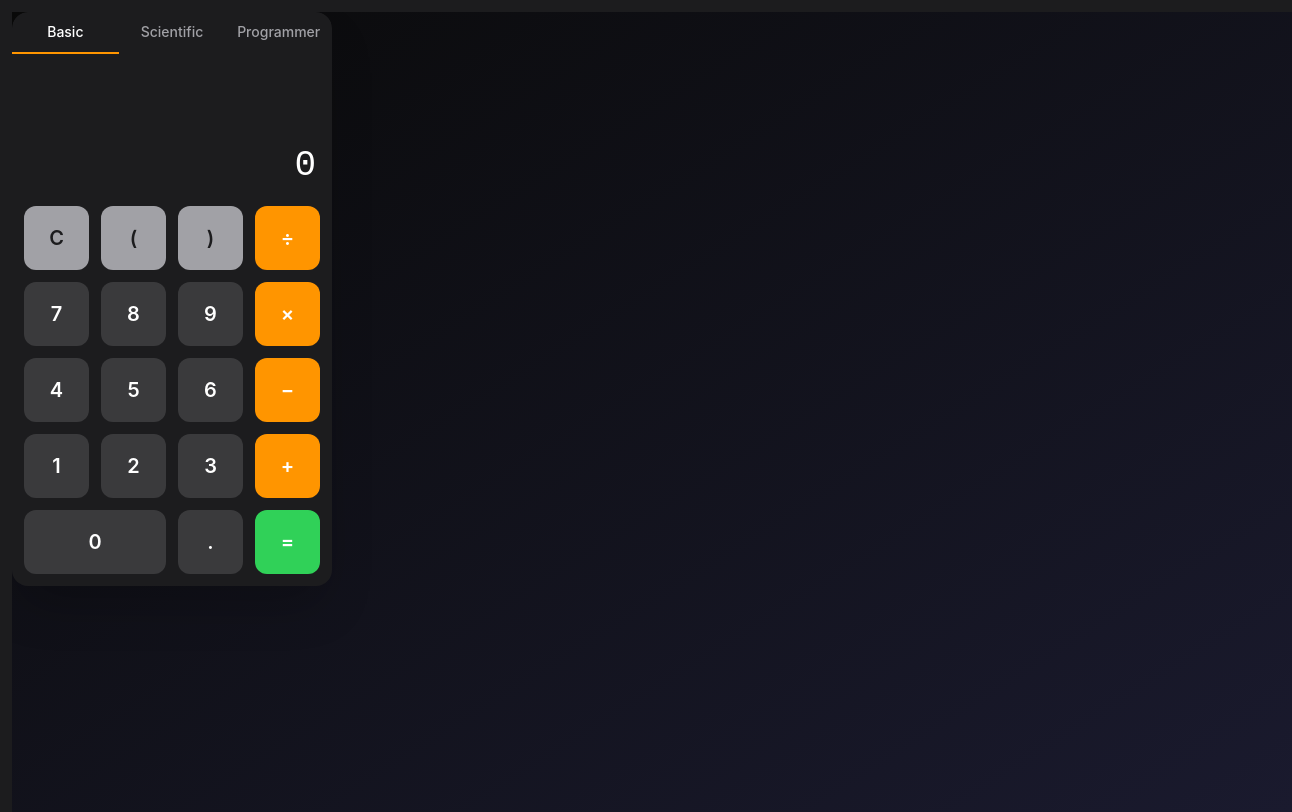
Test: Calculator › switching back to Basic from Programmer works
Click the button "Programmer".
click(279, 33)  # box [225,12,332,54]
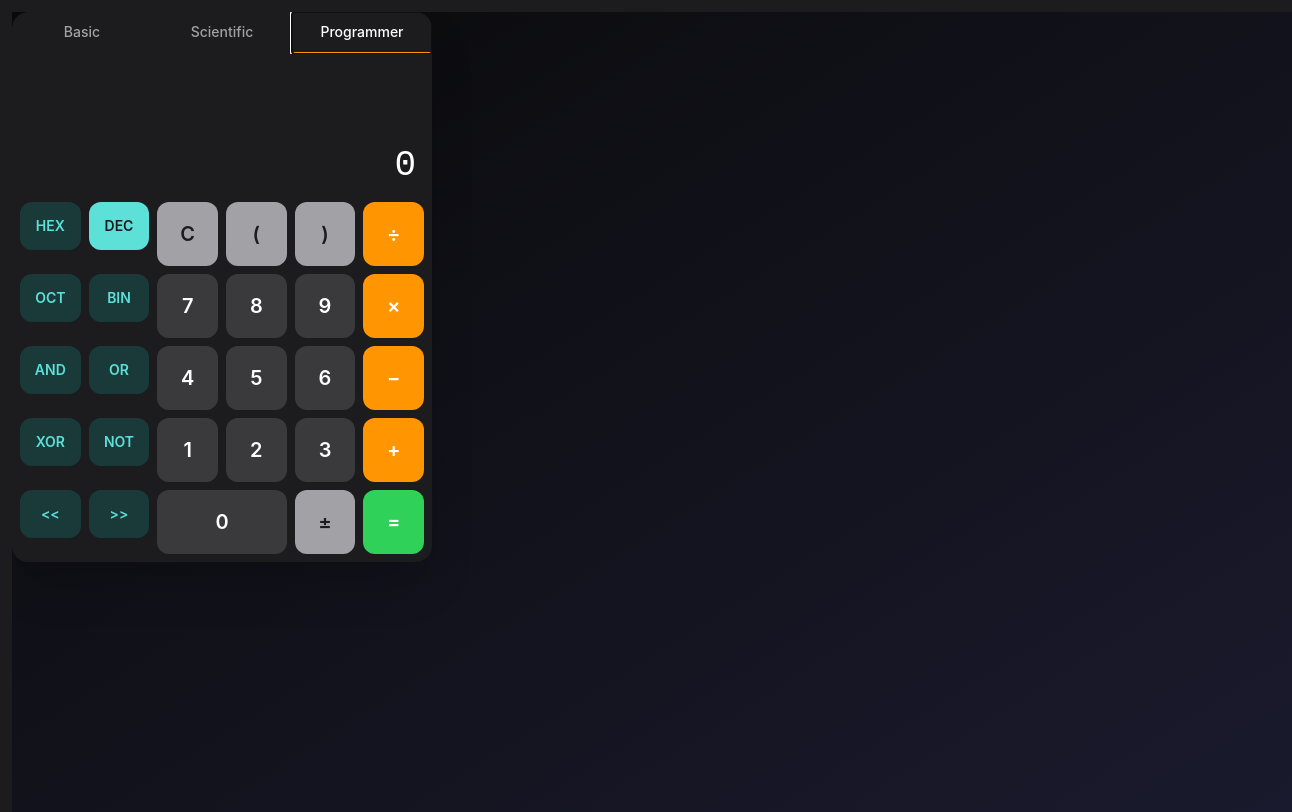
Now the button "AND" is shown, box [20,346,81,394]
Click the button "Basic".
click(82, 33)  # box [12,12,152,54]
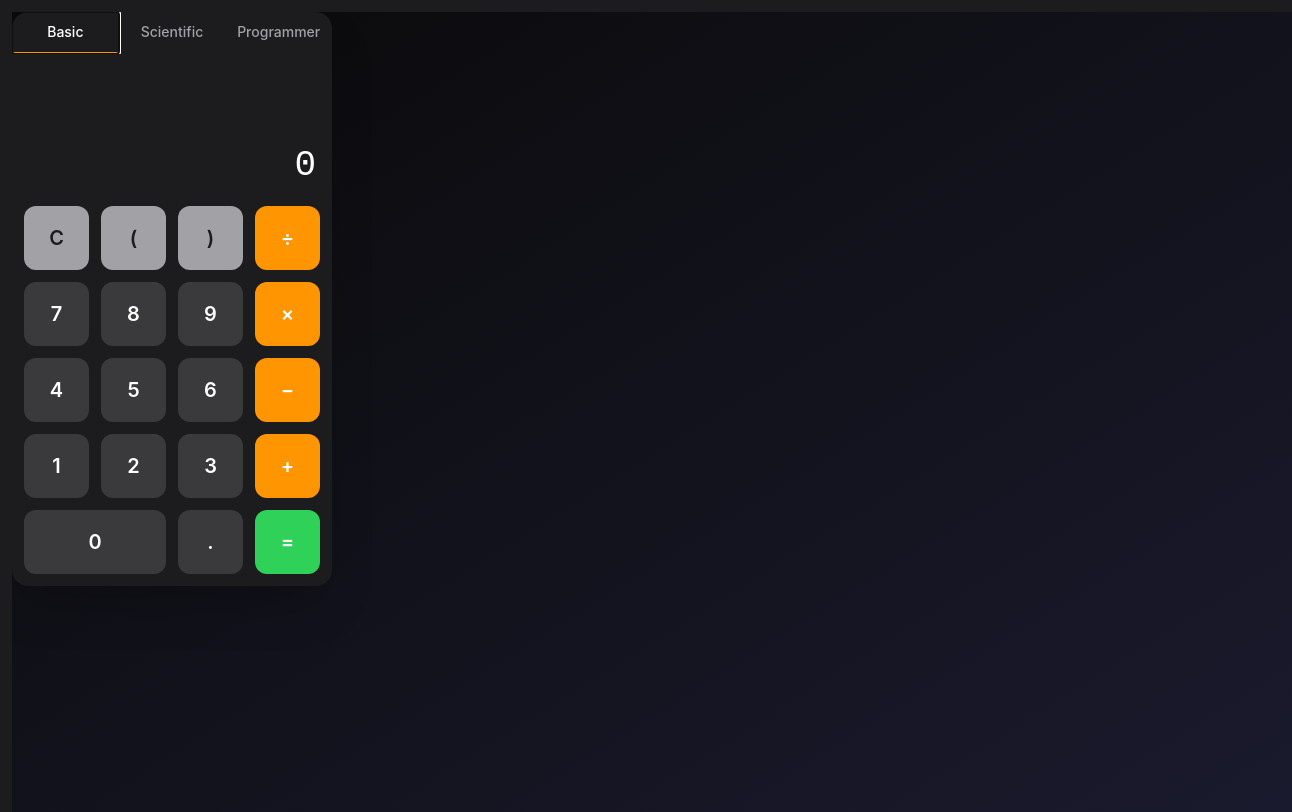
Expected: the button "C" is shown, [24,206,89,270]
Now the button "AND" is gone
